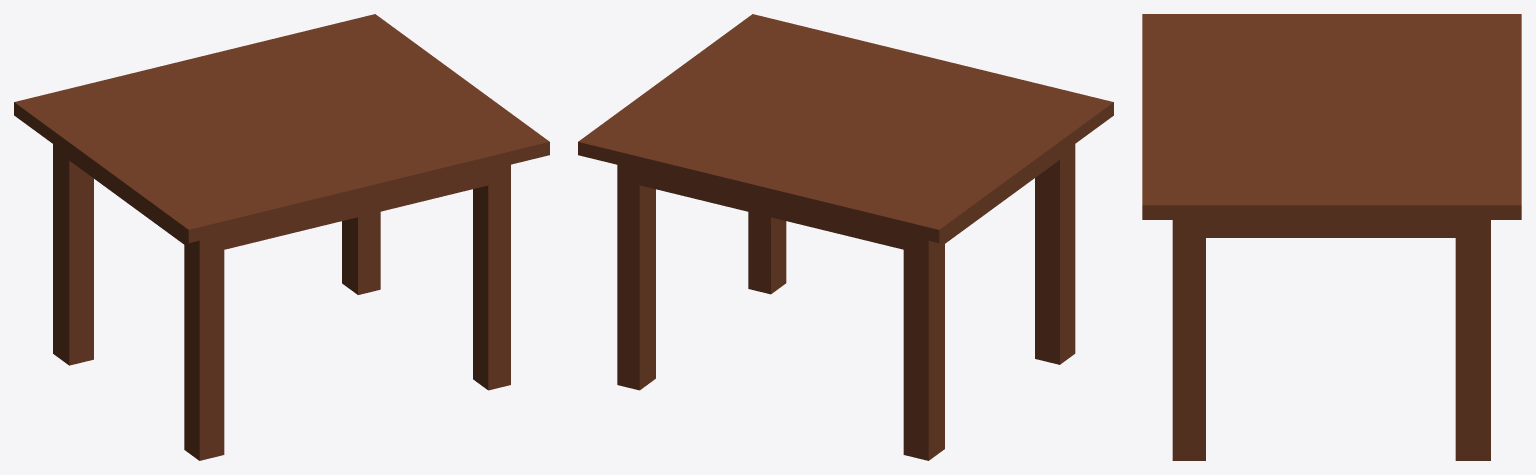
Rendered from PROP_Small_Table.fbx.
3 views of the same model, side by side, from view 1: azimuth 30°, elevation 25°; view 2: azimuth 150°, elevation 25°; view 3: azimuth 270°, elevation 25° (orthographic). The views are drawn at different scales.
Parts seen in each view (by area): view 1: Small_Table; view 2: Small_Table; view 3: Small_Table.
Part boxes in pixels (bbox=[...]): Small_Table: bbox=[14, 14, 549, 460]; Small_Table: bbox=[578, 14, 1113, 460]; Small_Table: bbox=[1142, 14, 1521, 460].
Size of the model in its own units: 78.67 by 51.49 by 65.86.
